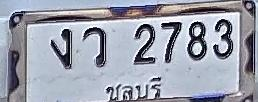2: (134, 23, 156, 64)
3: (213, 18, 233, 59)
7: (161, 21, 182, 63)
8: (187, 21, 207, 60)
A07: (50, 28, 72, 69)
A37: (82, 26, 106, 68)
CBI: (100, 75, 166, 102)
